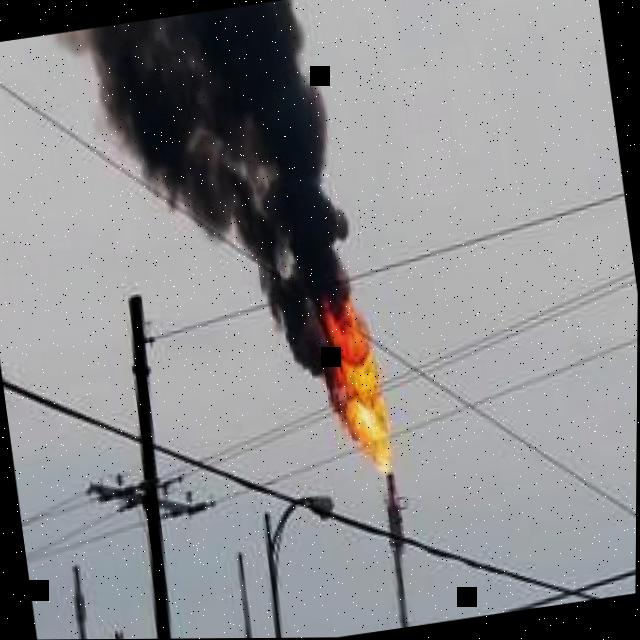fire: (324, 303, 392, 476)
smoke: (69, 0, 355, 418)
